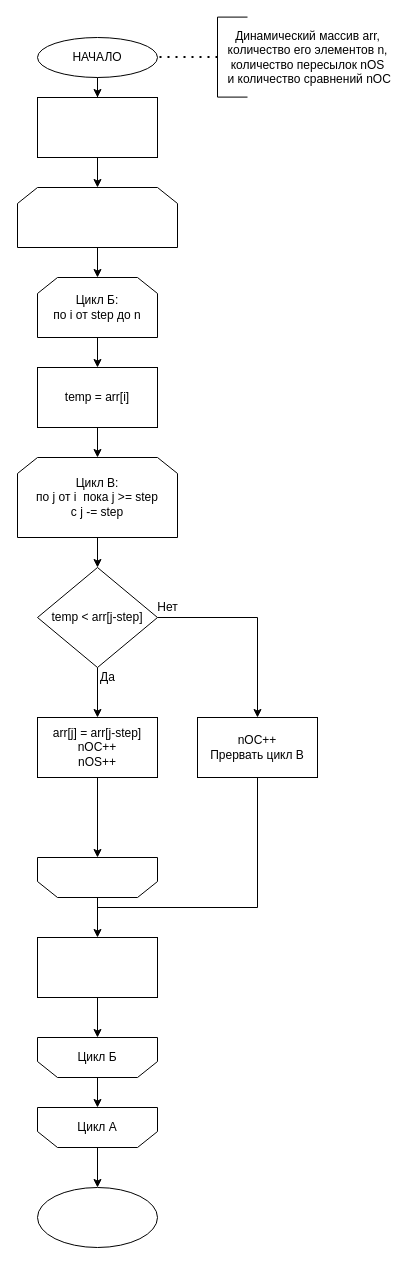
Some shapes in this 420 by 1266 pixel diagram are drawn without their labels. The box of each missing label's shape, as (x1, y1, x2, y2) in pixels:
arr[j] = temp nOS++: (36, 936, 158, 998)
КОНЕЦ: (36, 1186, 158, 1248)
Объявление переменных i, j, step и temp: (36, 96, 158, 158)
Цикл А: по step = n/2 и step>0 с действием step /= 2: (16, 186, 178, 248)
Цикл В: (36, 856, 158, 898)
